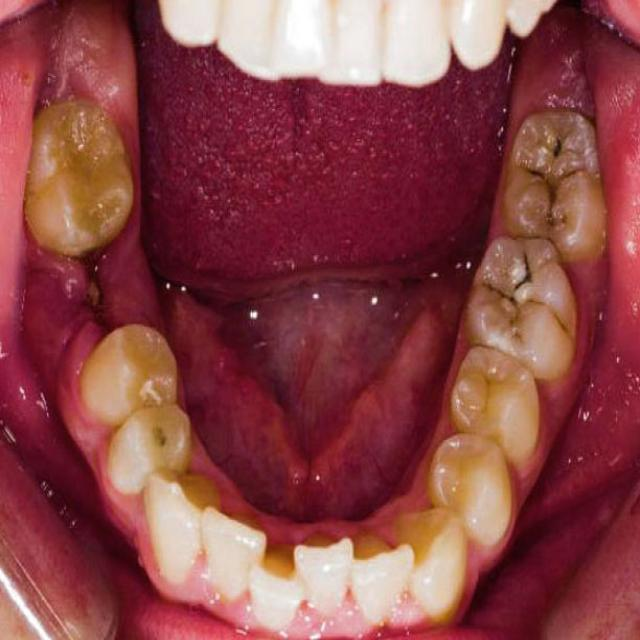caries: (523, 159, 588, 231), (506, 247, 542, 297), (480, 275, 524, 314), (538, 297, 574, 343), (143, 416, 176, 459), (543, 126, 570, 170)
